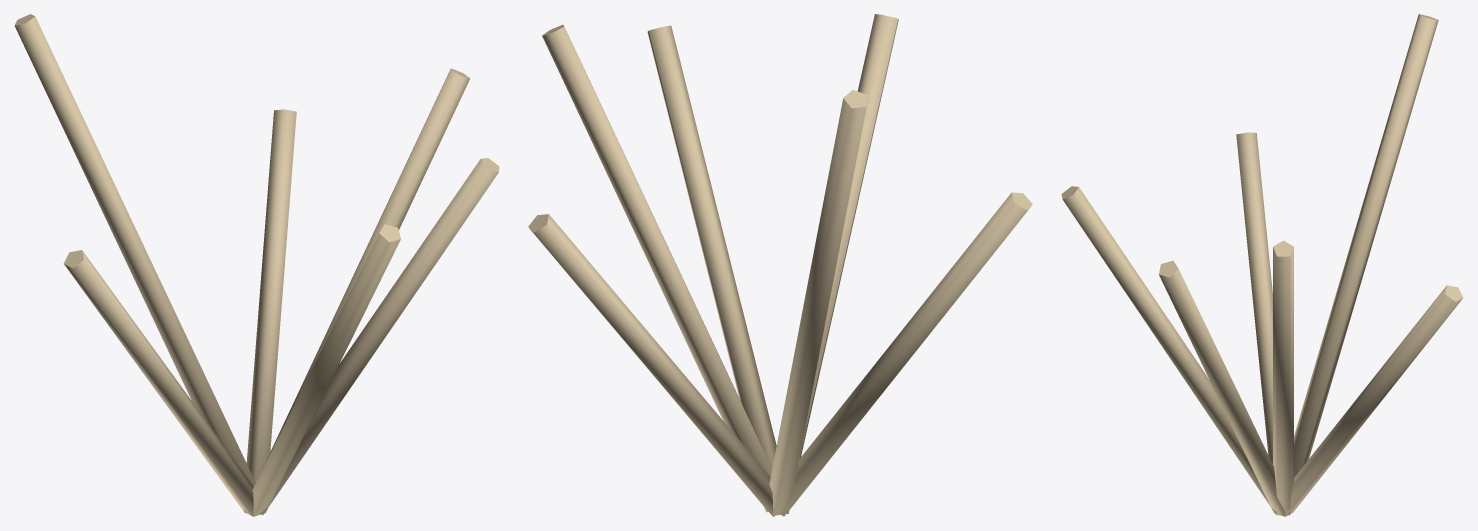
The model's file is rhine-grass_lod1.glb.
The picture shows the model from 3 angles, left to right: view 1: azimuth 30°, elevation 25°; view 2: azimuth 150°, elevation 25°; view 3: azimuth 270°, elevation 25°; orthographic projection. The views are drawn at different scales.
Parts seen in each view (by area): view 1: RF_DryBlade.002, RF_DryBlade.004, RF_DryBlade, RF_DryBlade.005, RF_DryBlade.003, RF_DryBlade.001; view 2: RF_DryBlade.001, RF_DryBlade, RF_DryBlade.002, RF_DryBlade.005, RF_DryBlade.004, RF_DryBlade.003; view 3: RF_DryBlade.002, RF_DryBlade.003, RF_DryBlade.004, RF_DryBlade.005, RF_DryBlade, RF_DryBlade.001.
Boxes of the visible parts, <box> form: RF_DryBlade.002: <box>14,14,255,513</box>; RF_DryBlade.004: <box>246,109,296,482</box>; RF_DryBlade: <box>260,158,499,514</box>; RF_DryBlade.005: <box>63,250,253,516</box>; RF_DryBlade.003: <box>252,224,400,516</box>; RF_DryBlade.001: <box>257,68,470,479</box>; RF_DryBlade.001: <box>542,24,771,512</box>; RF_DryBlade: <box>647,25,776,468</box>; RF_DryBlade.002: <box>769,90,867,515</box>; RF_DryBlade.005: <box>780,192,1032,516</box>; RF_DryBlade.004: <box>528,214,774,516</box>; RF_DryBlade.003: <box>799,14,898,458</box>; RF_DryBlade.002: <box>1294,14,1438,477</box>; RF_DryBlade.003: <box>1061,186,1276,515</box>; RF_DryBlade.004: <box>1285,285,1463,516</box>; RF_DryBlade.005: <box>1236,132,1272,463</box>; RF_DryBlade: <box>1159,260,1285,516</box>; RF_DryBlade.001: <box>1273,240,1293,515</box>.
Size of the model in its own units: 0.9269 by 1 by 0.8427.
